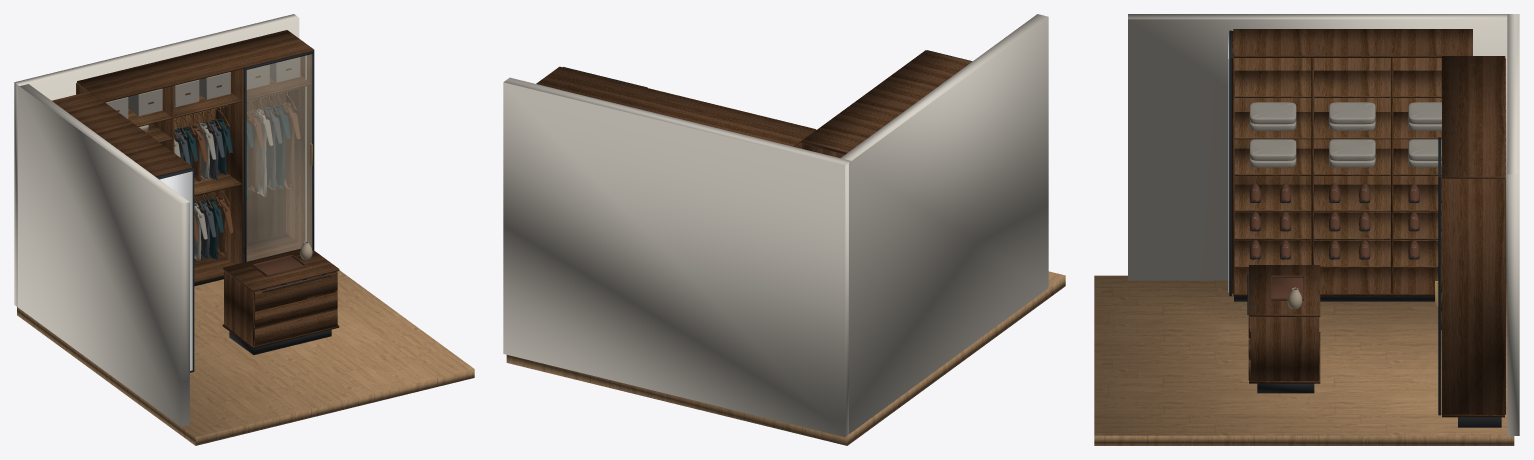
The model's file is closet.glb.
3 views of the same model, side by side, from view 1: azimuth 30°, elevation 25°; view 2: azimuth 150°, elevation 25°; view 3: azimuth 270°, elevation 25° (orthographic). The views are drawn at different scales.
Parts seen in each view (by area): view 1: Parede lateral, Piso, Armário lateral • divisória, Porta vidro • painel, Armário lateral • fundo, Cadarço, Camisa • barra.005, Camisa • barra.003, Camisa • barra.001, Armário lateral • rodapé, Porta vidro • montante, Gaveta • frente (+2 smaller); view 2: Parede lateral, Armário lateral • divisória, Piso; view 3: Piso, Armário lateral • divisória, Parede lateral, Armário lateral • fundo, Cadarço, Armário lateral • rodapé, Sapato • cabedal, Porta vidro • montante, Pega caixa.
Part boxes in pixels (box(x1,y1,x2,y2)): Parede lateral: box(14, 14, 299, 426); Piso: box(17, 270, 474, 445); Armário lateral • divisória: box(52, 30, 339, 348); Porta vidro • painel: box(247, 54, 311, 261); Armário lateral • fundo: box(128, 75, 311, 242); Cadarço: box(105, 57, 300, 260); Camisa • barra.005: box(144, 102, 300, 253); Camisa • barra.003: box(177, 104, 291, 259); Camisa • barra.001: box(174, 107, 282, 259); Armário lateral • rodapé: box(156, 56, 331, 372); Porta vidro • montante: box(243, 51, 314, 262); Gaveta • frente: box(254, 272, 337, 310); Parede lateral: box(503, 14, 1048, 437); Armário lateral • divisória: box(536, 50, 971, 158); Piso: box(506, 271, 1065, 445); Piso: box(1094, 275, 1514, 445); Armário lateral • divisória: box(1232, 29, 1505, 417); Parede lateral: box(1128, 14, 1519, 435); Armário lateral • fundo: box(1234, 58, 1505, 414); Cadarço: box(1249, 102, 1441, 247); Armário lateral • rodapé: box(1229, 30, 1501, 427); Sapato • cabedal: box(1249, 183, 1441, 258); Porta vidro • montante: box(1438, 137, 1441, 415); Pega caixa: box(1271, 275, 1304, 300).
Bounding box in the file's own units: 3.66 × 2.89 × 4.1.
Materials: 15 (7 with a texture image).
